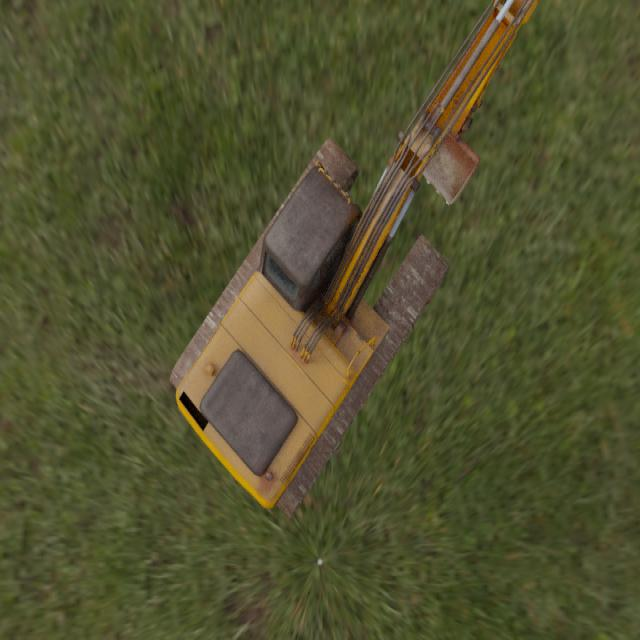excavator: (169, 0, 539, 520)
